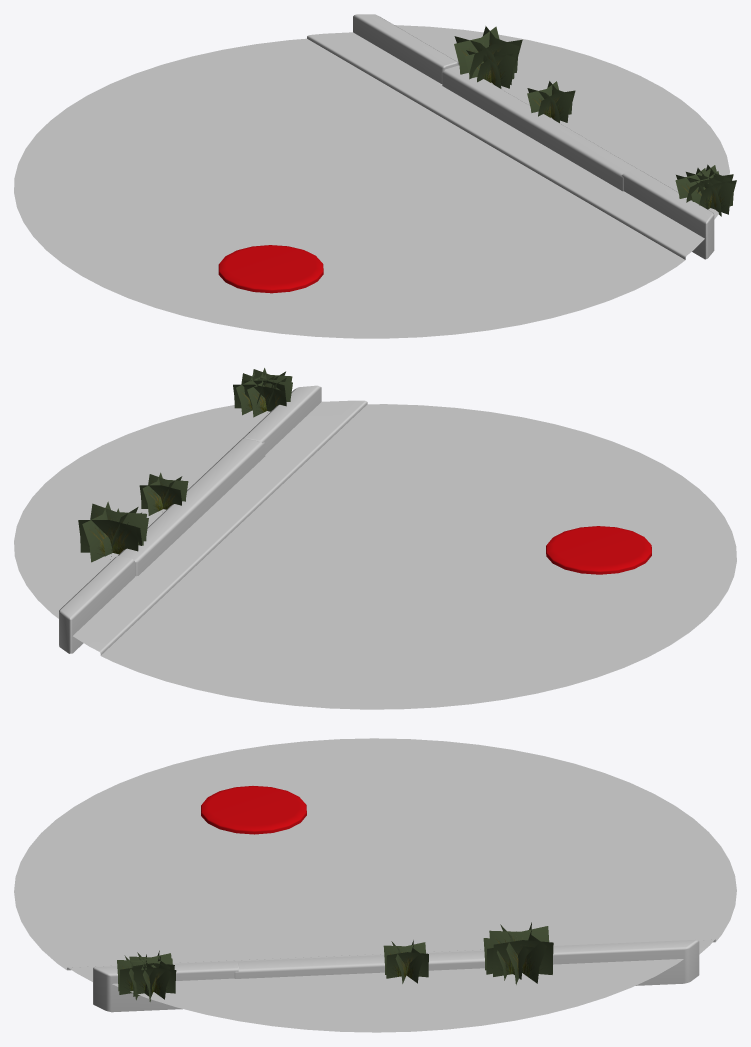
The model's file is AE_Pedestal.fbx.
The picture shows the model from 3 angles, top to bottom: view 1: azimuth 30°, elevation 25°; view 2: azimuth 150°, elevation 25°; view 3: azimuth 270°, elevation 25°; orthographic projection.
Parts seen in each view (by area): view 1: AE_Pedestal; view 2: AE_Pedestal; view 3: AE_Pedestal.
Boxes of the visible parts, box(x1,y1,x2,y2) form: AE_Pedestal: box(14, 14, 736, 338); AE_Pedestal: box(14, 368, 736, 709); AE_Pedestal: box(14, 738, 736, 1032).
Size of the model in its own units: 577 by 64.22 by 577.
